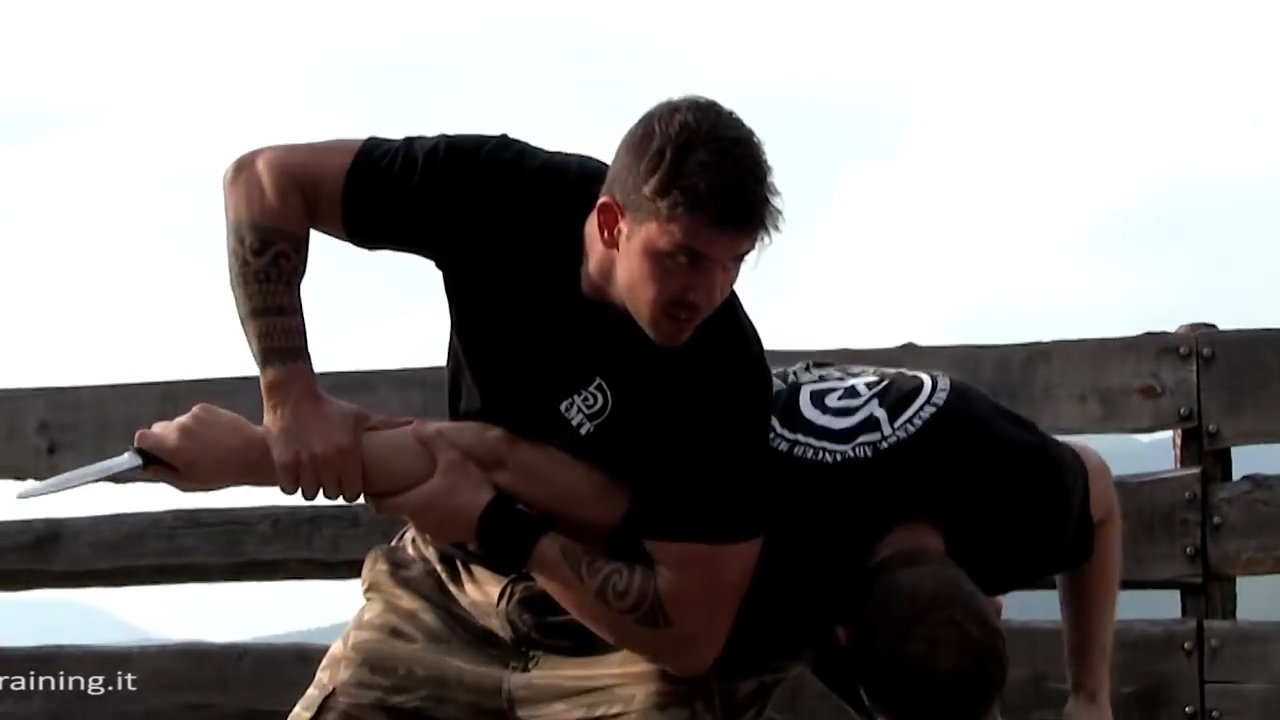knife: (4, 396, 219, 508)
